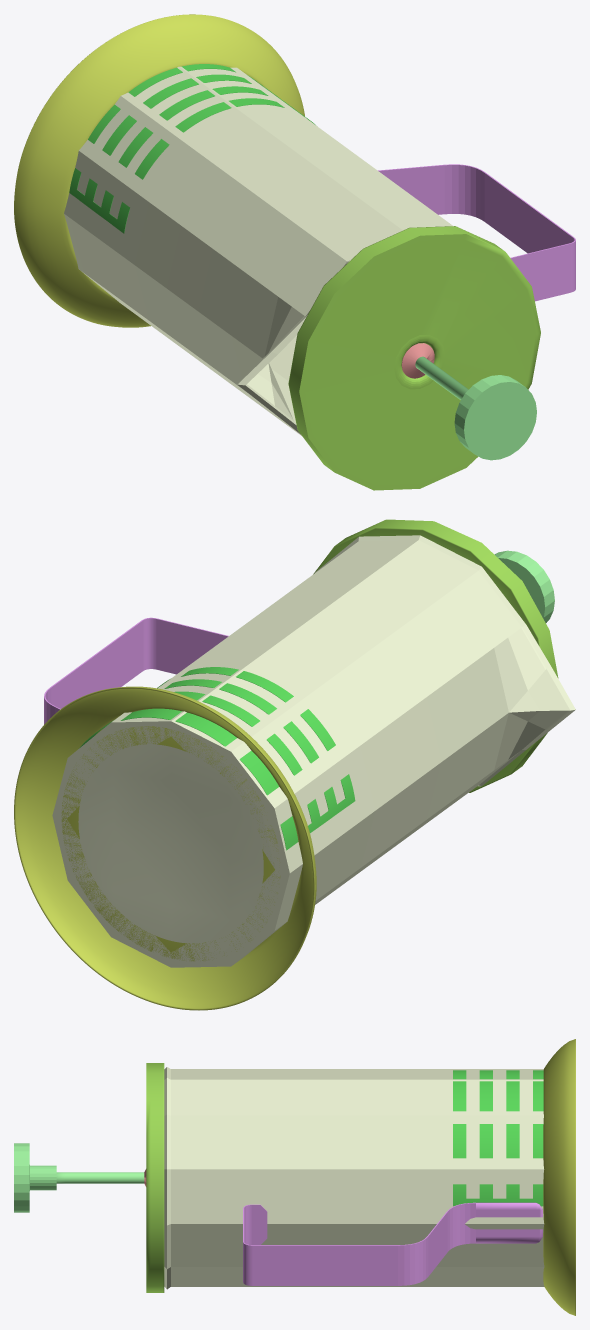
3 views of the same model, one above another, from view 1: azimuth 30°, elevation 25°; view 2: azimuth 150°, elevation 25°; view 3: azimuth 270°, elevation 25° (orthographic). The views are drawn at different scales.
Parts seen in each view (by area): view 1: Cafetiere obj; view 2: Cafetiere obj; view 3: Cafetiere obj.
Part boxes in pixels (left/top/right/bottom): Cafetiere obj: left=14, top=14, right=575, bottom=490; Cafetiere obj: left=14, top=519, right=575, bottom=1010; Cafetiere obj: left=14, top=1039, right=575, bottom=1315.
Bounding box in the file's own units: 0.1616 × 0.1243 × 0.2523.
